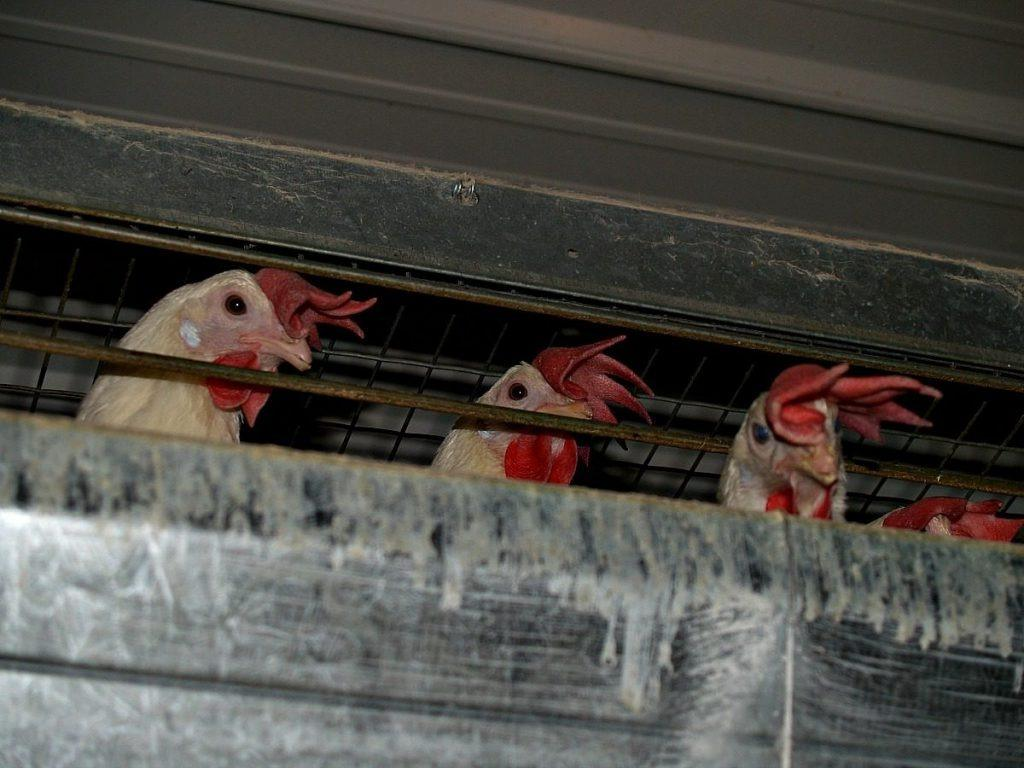AbNormal: (765, 367, 926, 451), (250, 264, 377, 344), (542, 337, 653, 412)
